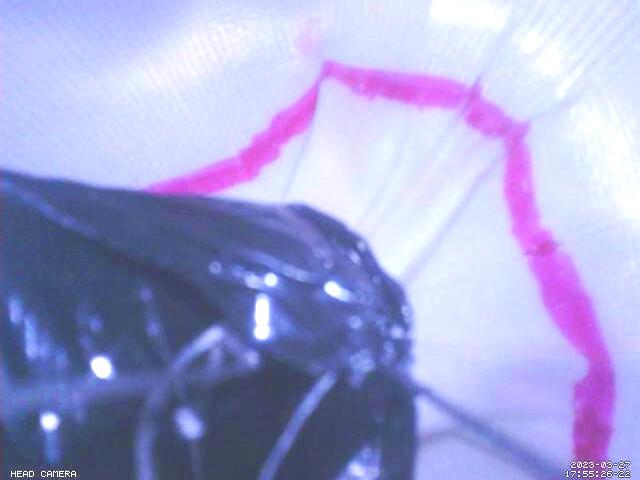red-circle: (144, 59, 618, 480)
